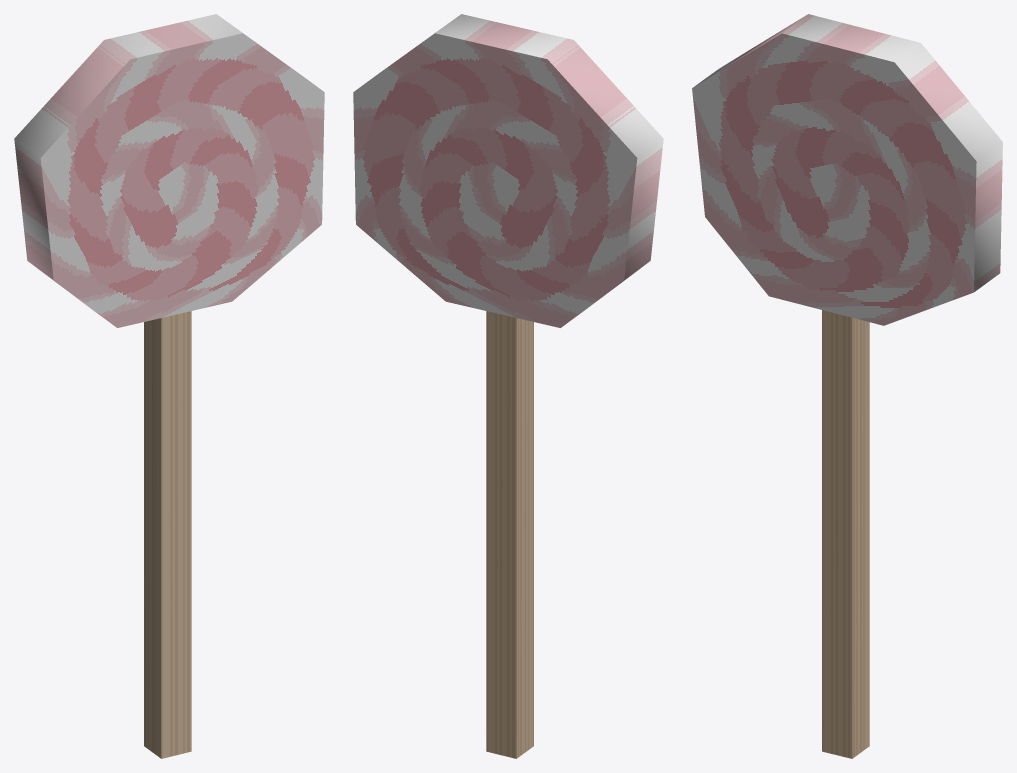
File: 02af_Lollipop.glb
3 renders of one model, left to right at view 1: azimuth 30°, elevation 25°; view 2: azimuth 150°, elevation 25°; view 3: azimuth 330°, elevation 25°, orthographic.
Parts seen in each view (by area): view 1: part_0; view 2: part_0; view 3: part_0.
Part boxes in pixels (left/top/right/bottom): part_0: left=14, top=14, right=324, bottom=758; part_0: left=353, top=14, right=663, bottom=758; part_0: left=692, top=14, right=1002, bottom=758.
Bounding box in the file's own units: 0.1074 × 0.2571 × 0.0173.
1 material, 1 textured.
